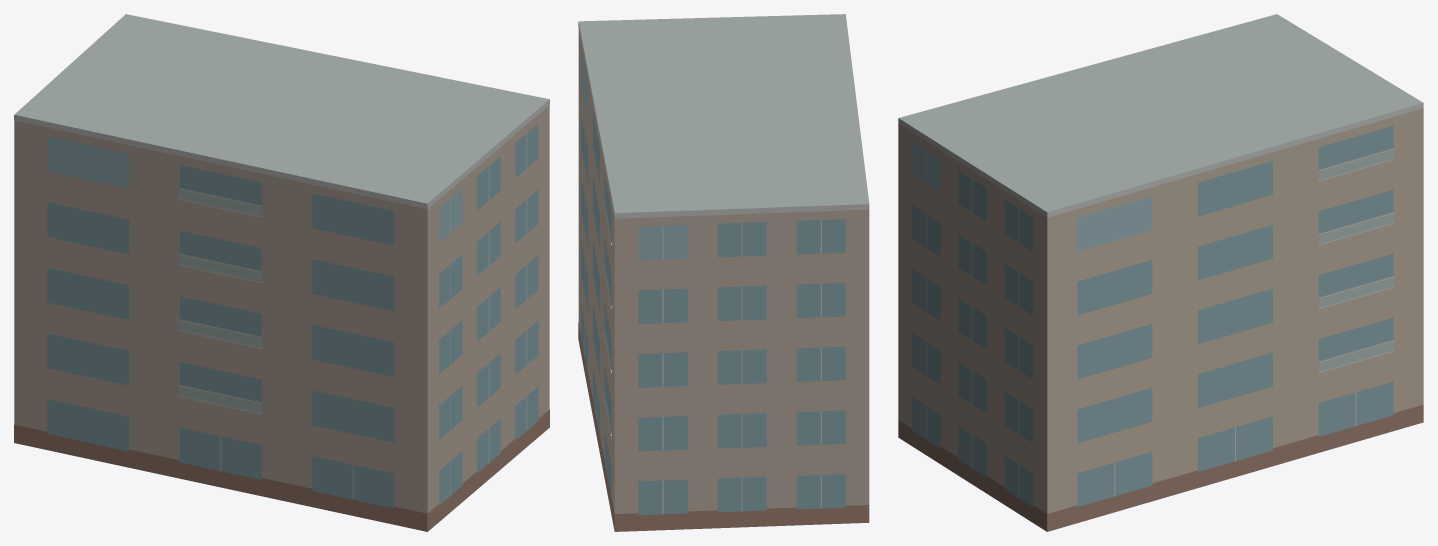
Rendered from survey-upis-32789104.glb.
The picture shows the model from 3 angles, left to right: view 1: azimuth 30°, elevation 25°; view 2: azimuth 150°, elevation 25°; view 3: azimuth 270°, elevation 25°; orthographic projection. The views are drawn at different scales.
Visible parts, largest first — view 1: survey-upis-32789104.tmp; view 2: survey-upis-32789104.tmp; view 3: survey-upis-32789104.tmp.
Boxes of the visible parts, bbox=[...] form: survey-upis-32789104.tmp: bbox=[14, 14, 549, 531]; survey-upis-32789104.tmp: bbox=[578, 14, 869, 531]; survey-upis-32789104.tmp: bbox=[898, 14, 1423, 531].
Bounding box in the file's own units: 18.92 × 14.2 × 21.17.
